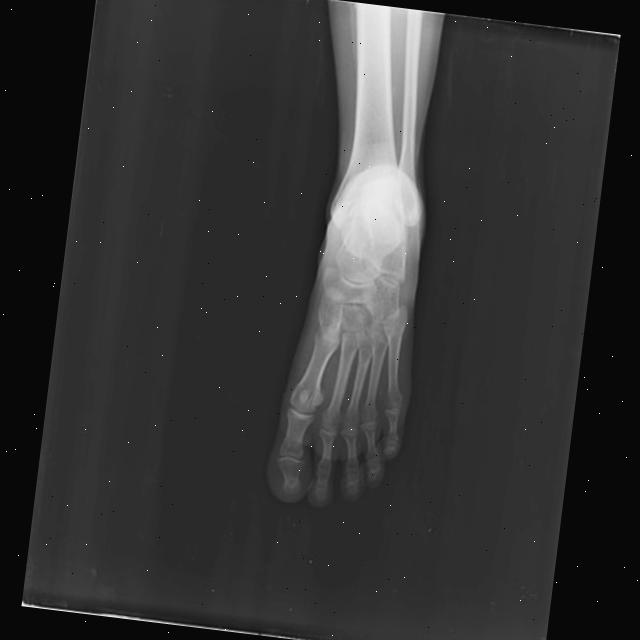Fracture: (347, 327, 375, 353)
